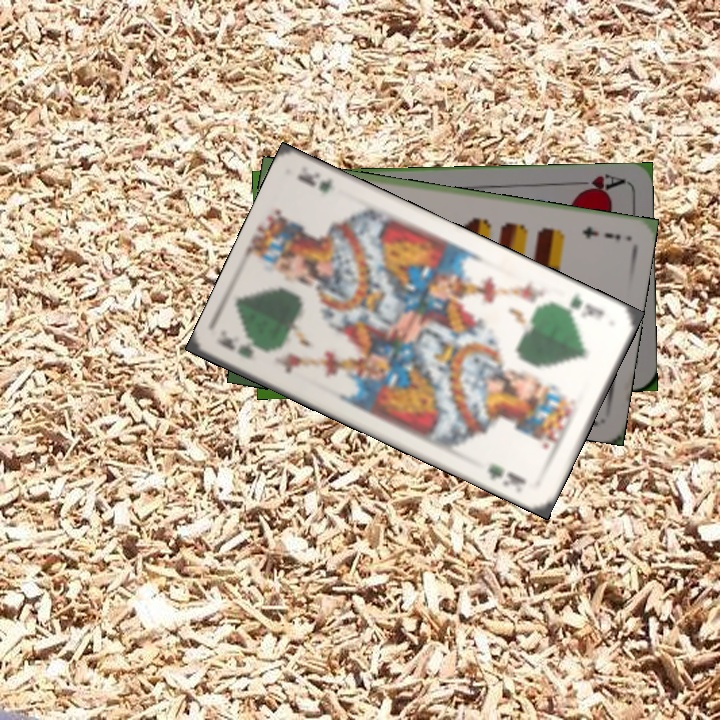E7: (578, 222, 623, 243)
GK: (554, 289, 607, 323), (216, 333, 256, 360)
HA: (567, 170, 626, 198)
